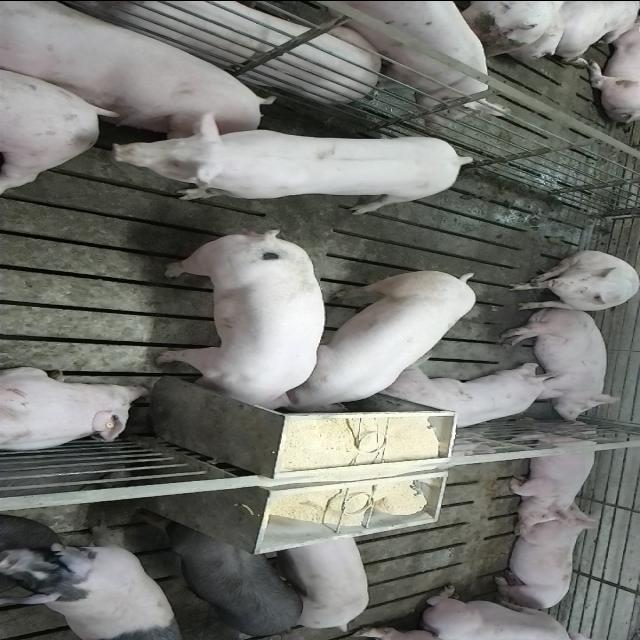Feeding: (152, 227, 322, 411), (282, 264, 479, 412)
Lateral_lying: (498, 306, 624, 422)
Sitting: (506, 250, 638, 312)
Standing: (107, 120, 470, 210), (301, 0, 498, 111), (136, 510, 303, 638), (34, 524, 195, 638), (279, 532, 367, 628)
Sternal_lying: (0, 3, 274, 148), (0, 366, 151, 452), (381, 367, 568, 432), (490, 510, 598, 612), (418, 584, 606, 638), (502, 424, 602, 524)
